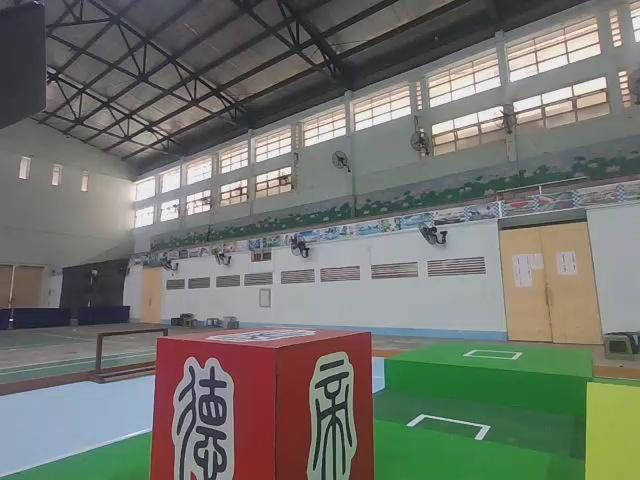R2 Fake: (147, 325, 378, 480)
